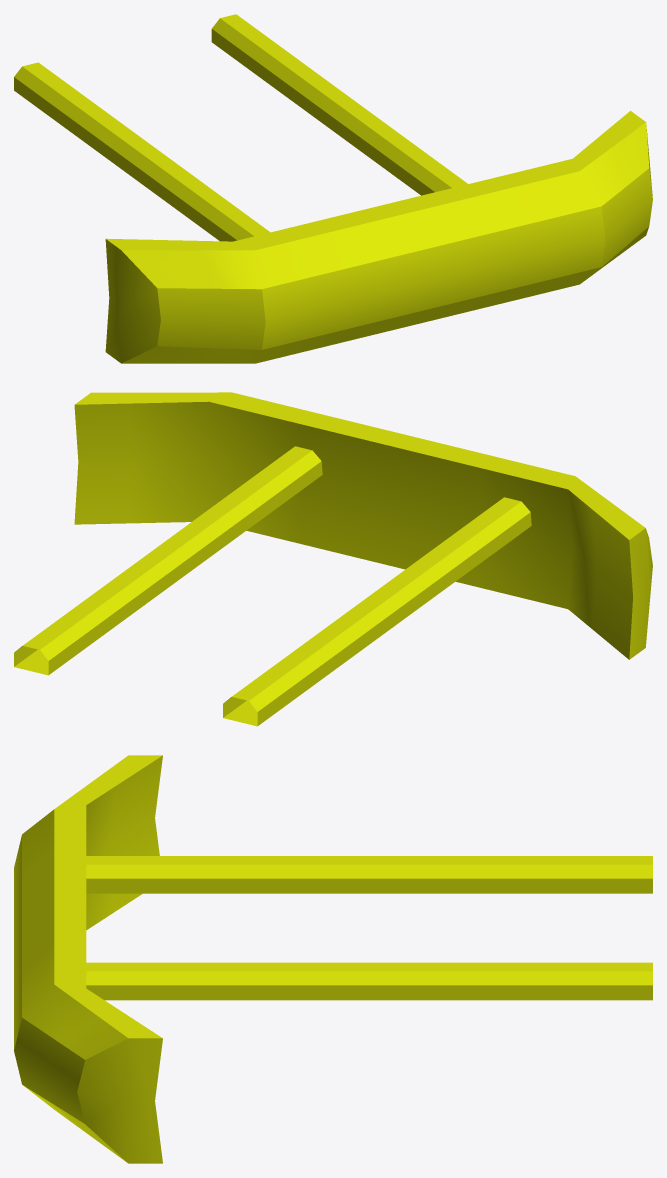
The model's file is Power_Lever.fbx.
The picture shows the model from 3 angles, top to bottom: view 1: azimuth 30°, elevation 25°; view 2: azimuth 150°, elevation 25°; view 3: azimuth 270°, elevation 25°; orthographic projection. The views are drawn at different scales.
Visible parts, largest first — view 1: Power_Lever; view 2: Power_Lever; view 3: Power_Lever.
Boxes of the visible parts, x1=… form: Power_Lever: x1=14, y1=14, x2=652, y2=363; Power_Lever: x1=14, y1=392, x2=652, y2=726; Power_Lever: x1=14, y1=755, x2=652, y2=1163.
Bounding box in the file's own units: 0.6427 × 0.1327 × 0.6131.
